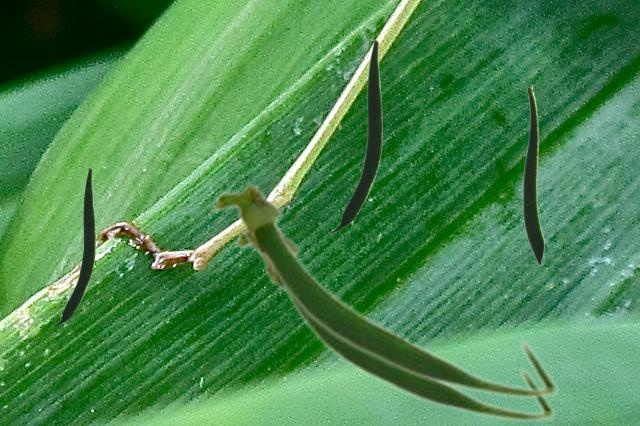french_bean: (209, 180, 559, 400), (232, 227, 556, 423), (328, 39, 381, 232), (51, 167, 94, 326), (522, 84, 544, 265)
